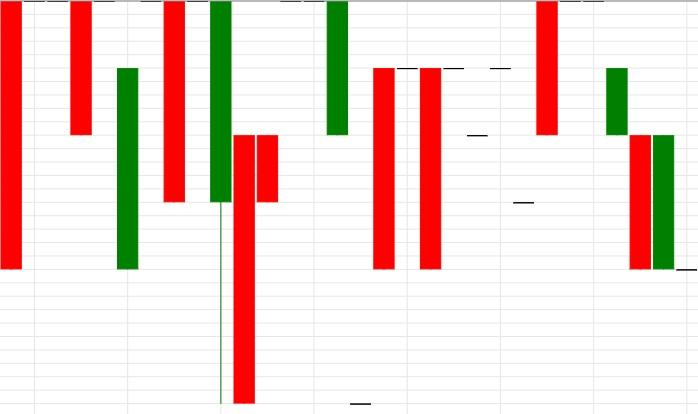evening_star_fall: (116, 0, 233, 404)
